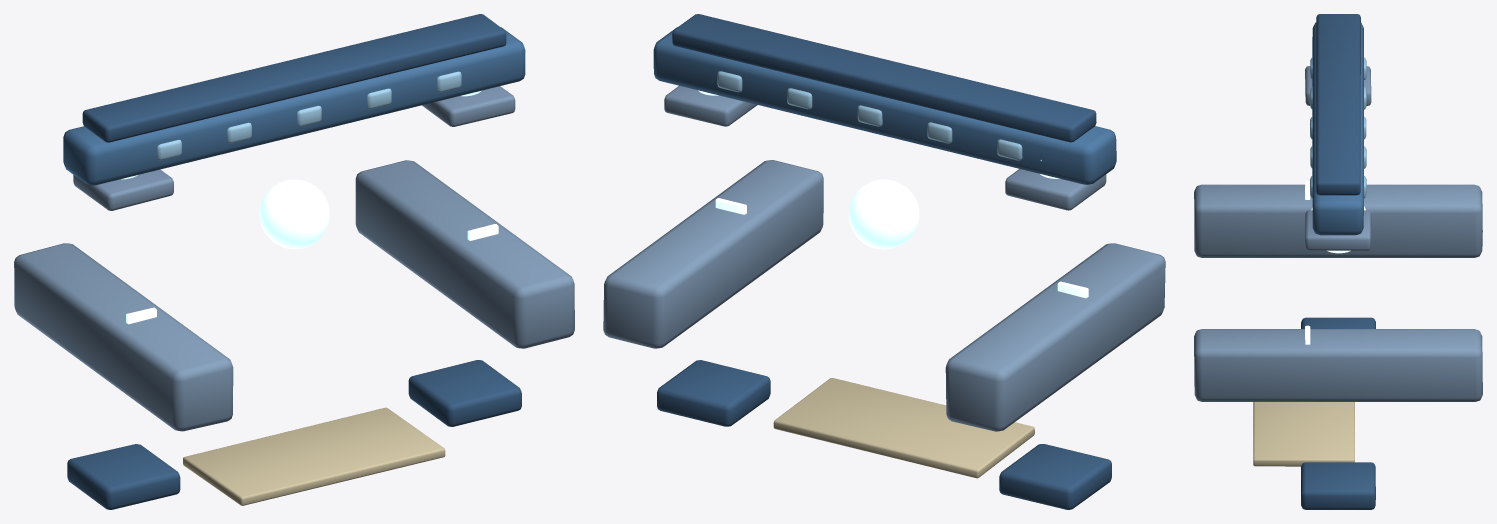
3 views of the same model, side by side, from view 1: azimuth 30°, elevation 25°; view 2: azimuth 150°, elevation 25°; view 3: azimuth 270°, elevation 25° (orthographic). The views are drawn at different scales.
Parts seen in each view (by area): view 1: gate_df374e4a; view 2: gate_df374e4a; view 3: gate_df374e4a.
Boxes of the visible parts, x1,y1,x2,y2 form: gate_df374e4a: [14, 14, 574, 509]; gate_df374e4a: [603, 14, 1165, 509]; gate_df374e4a: [1194, 14, 1482, 509].
Size of the model in its own units: 5.16 by 4.23 by 3.38.
